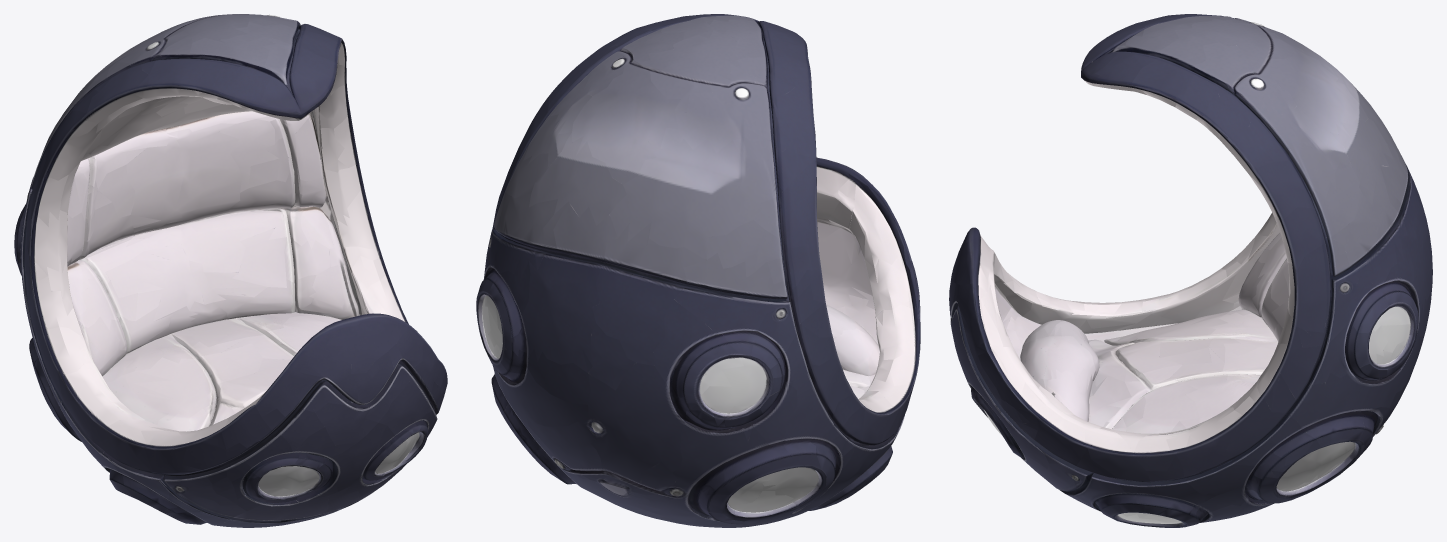
Rendered from id-mount.fbx.
3 renders of one model, left to right at view 1: azimuth 30°, elevation 25°; view 2: azimuth 150°, elevation 25°; view 3: azimuth 270°, elevation 25°, orthographic. The views are drawn at different scales.
Parts seen in each view (by area): view 1: output_unwrapped; view 2: output_unwrapped; view 3: output_unwrapped.
Boxes of the visible parts, <box> form: output_unwrapped: <box>14,14,447,527</box>; output_unwrapped: <box>476,14,920,527</box>; output_unwrapped: <box>949,14,1432,527</box>.
Bounding box in the file's own units: 145 × 190 × 178.
Materials: 1 (1 with a texture image).
